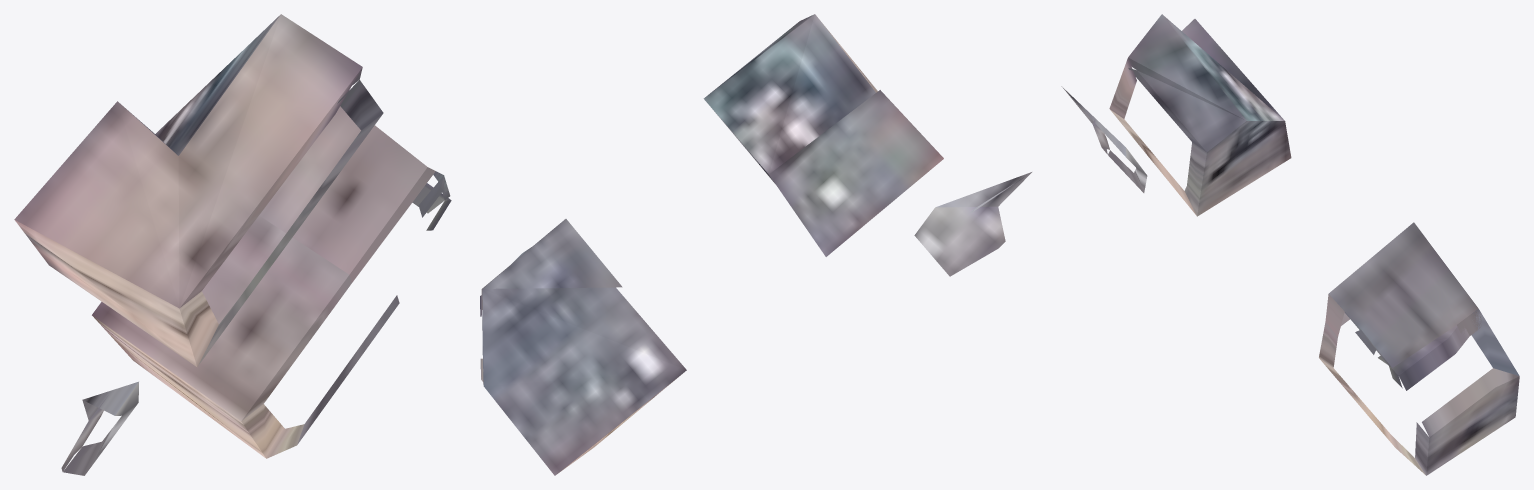
3 views of the same model, side by side, from view 1: azimuth 30°, elevation 25°; view 2: azimuth 150°, elevation 25°; view 3: azimuth 270°, elevation 25° (orthographic). The views are drawn at different scales.
Bounding box in the file's own units: 19.7 × 18.83 × 19.93.
1 material, 1 textured.
